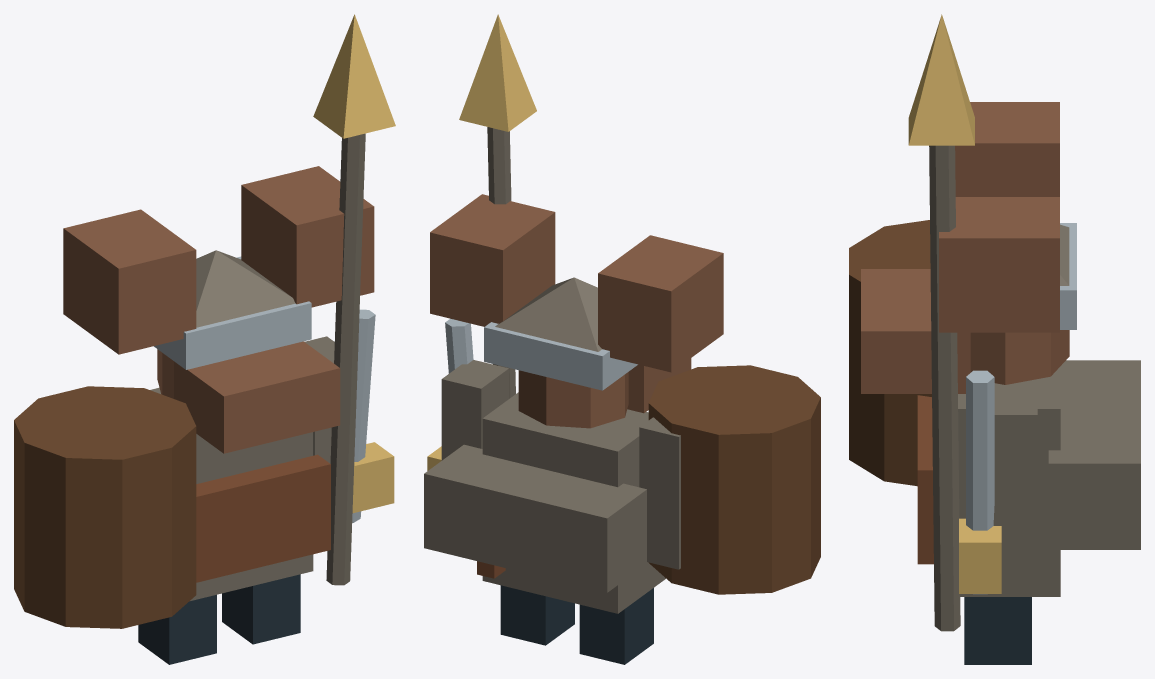
File: stone-spearman.obj
3 views of the same model, side by side, from view 1: azimuth 30°, elevation 25°; view 2: azimuth 150°, elevation 25°; view 3: azimuth 270°, elevation 25° (orthographic). The views are drawn at different scales.
Visible parts, largest first — view 1: infantry; view 2: infantry; view 3: infantry.
Part boxes in pixels (x1,y1,x2,y2): infantry: (14,14,395,664); infantry: (424,14,820,664); infantry: (849,14,1140,664).
Bounding box in the file's own units: 1.66 × 2.58 × 1.01.
